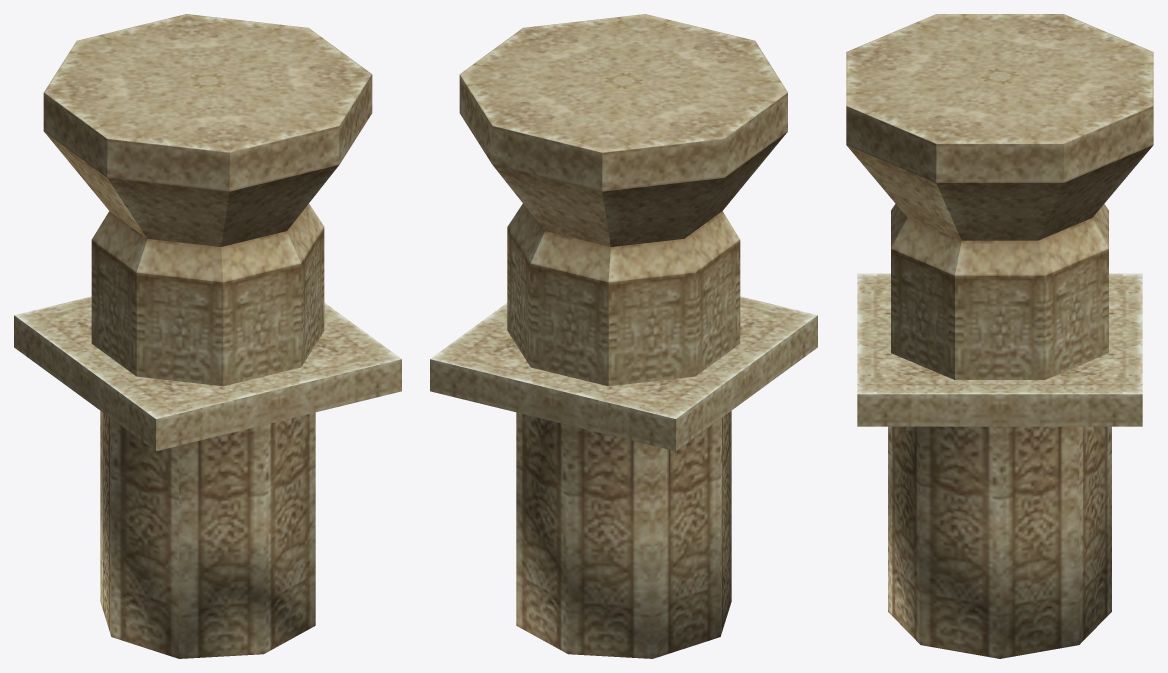
Rendered from general_obj_bigtoewr07.fbx.
The picture shows the model from 3 angles, left to right: view 1: azimuth 30°, elevation 25°; view 2: azimuth 150°, elevation 25°; view 3: azimuth 270°, elevation 25°; orthographic projection.
Visible parts, largest first — view 1: Sphere01; view 2: Sphere01; view 3: Sphere01.
Part boxes in pixels (box(x1,y1,x2,y2)): Sphere01: box(14, 14, 401, 658); Sphere01: box(430, 14, 817, 658); Sphere01: box(846, 14, 1153, 658).
Bounding box in the file's own units: 4.31 × 8.28 × 4.31.
